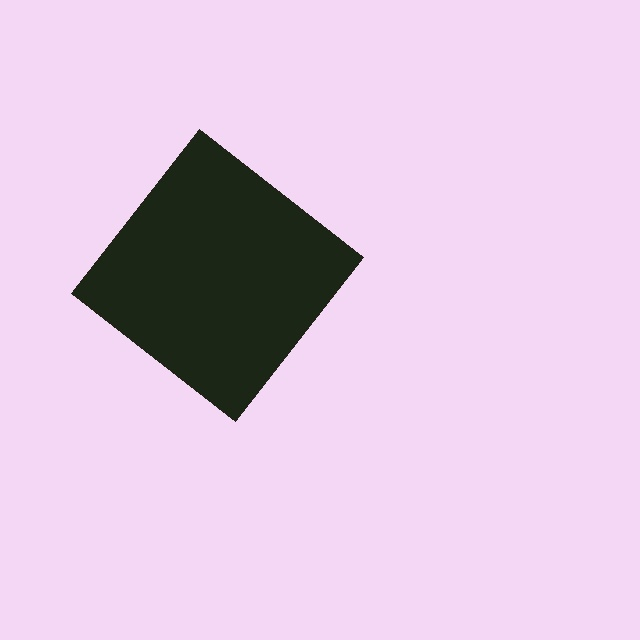square: (70, 129, 363, 422)
